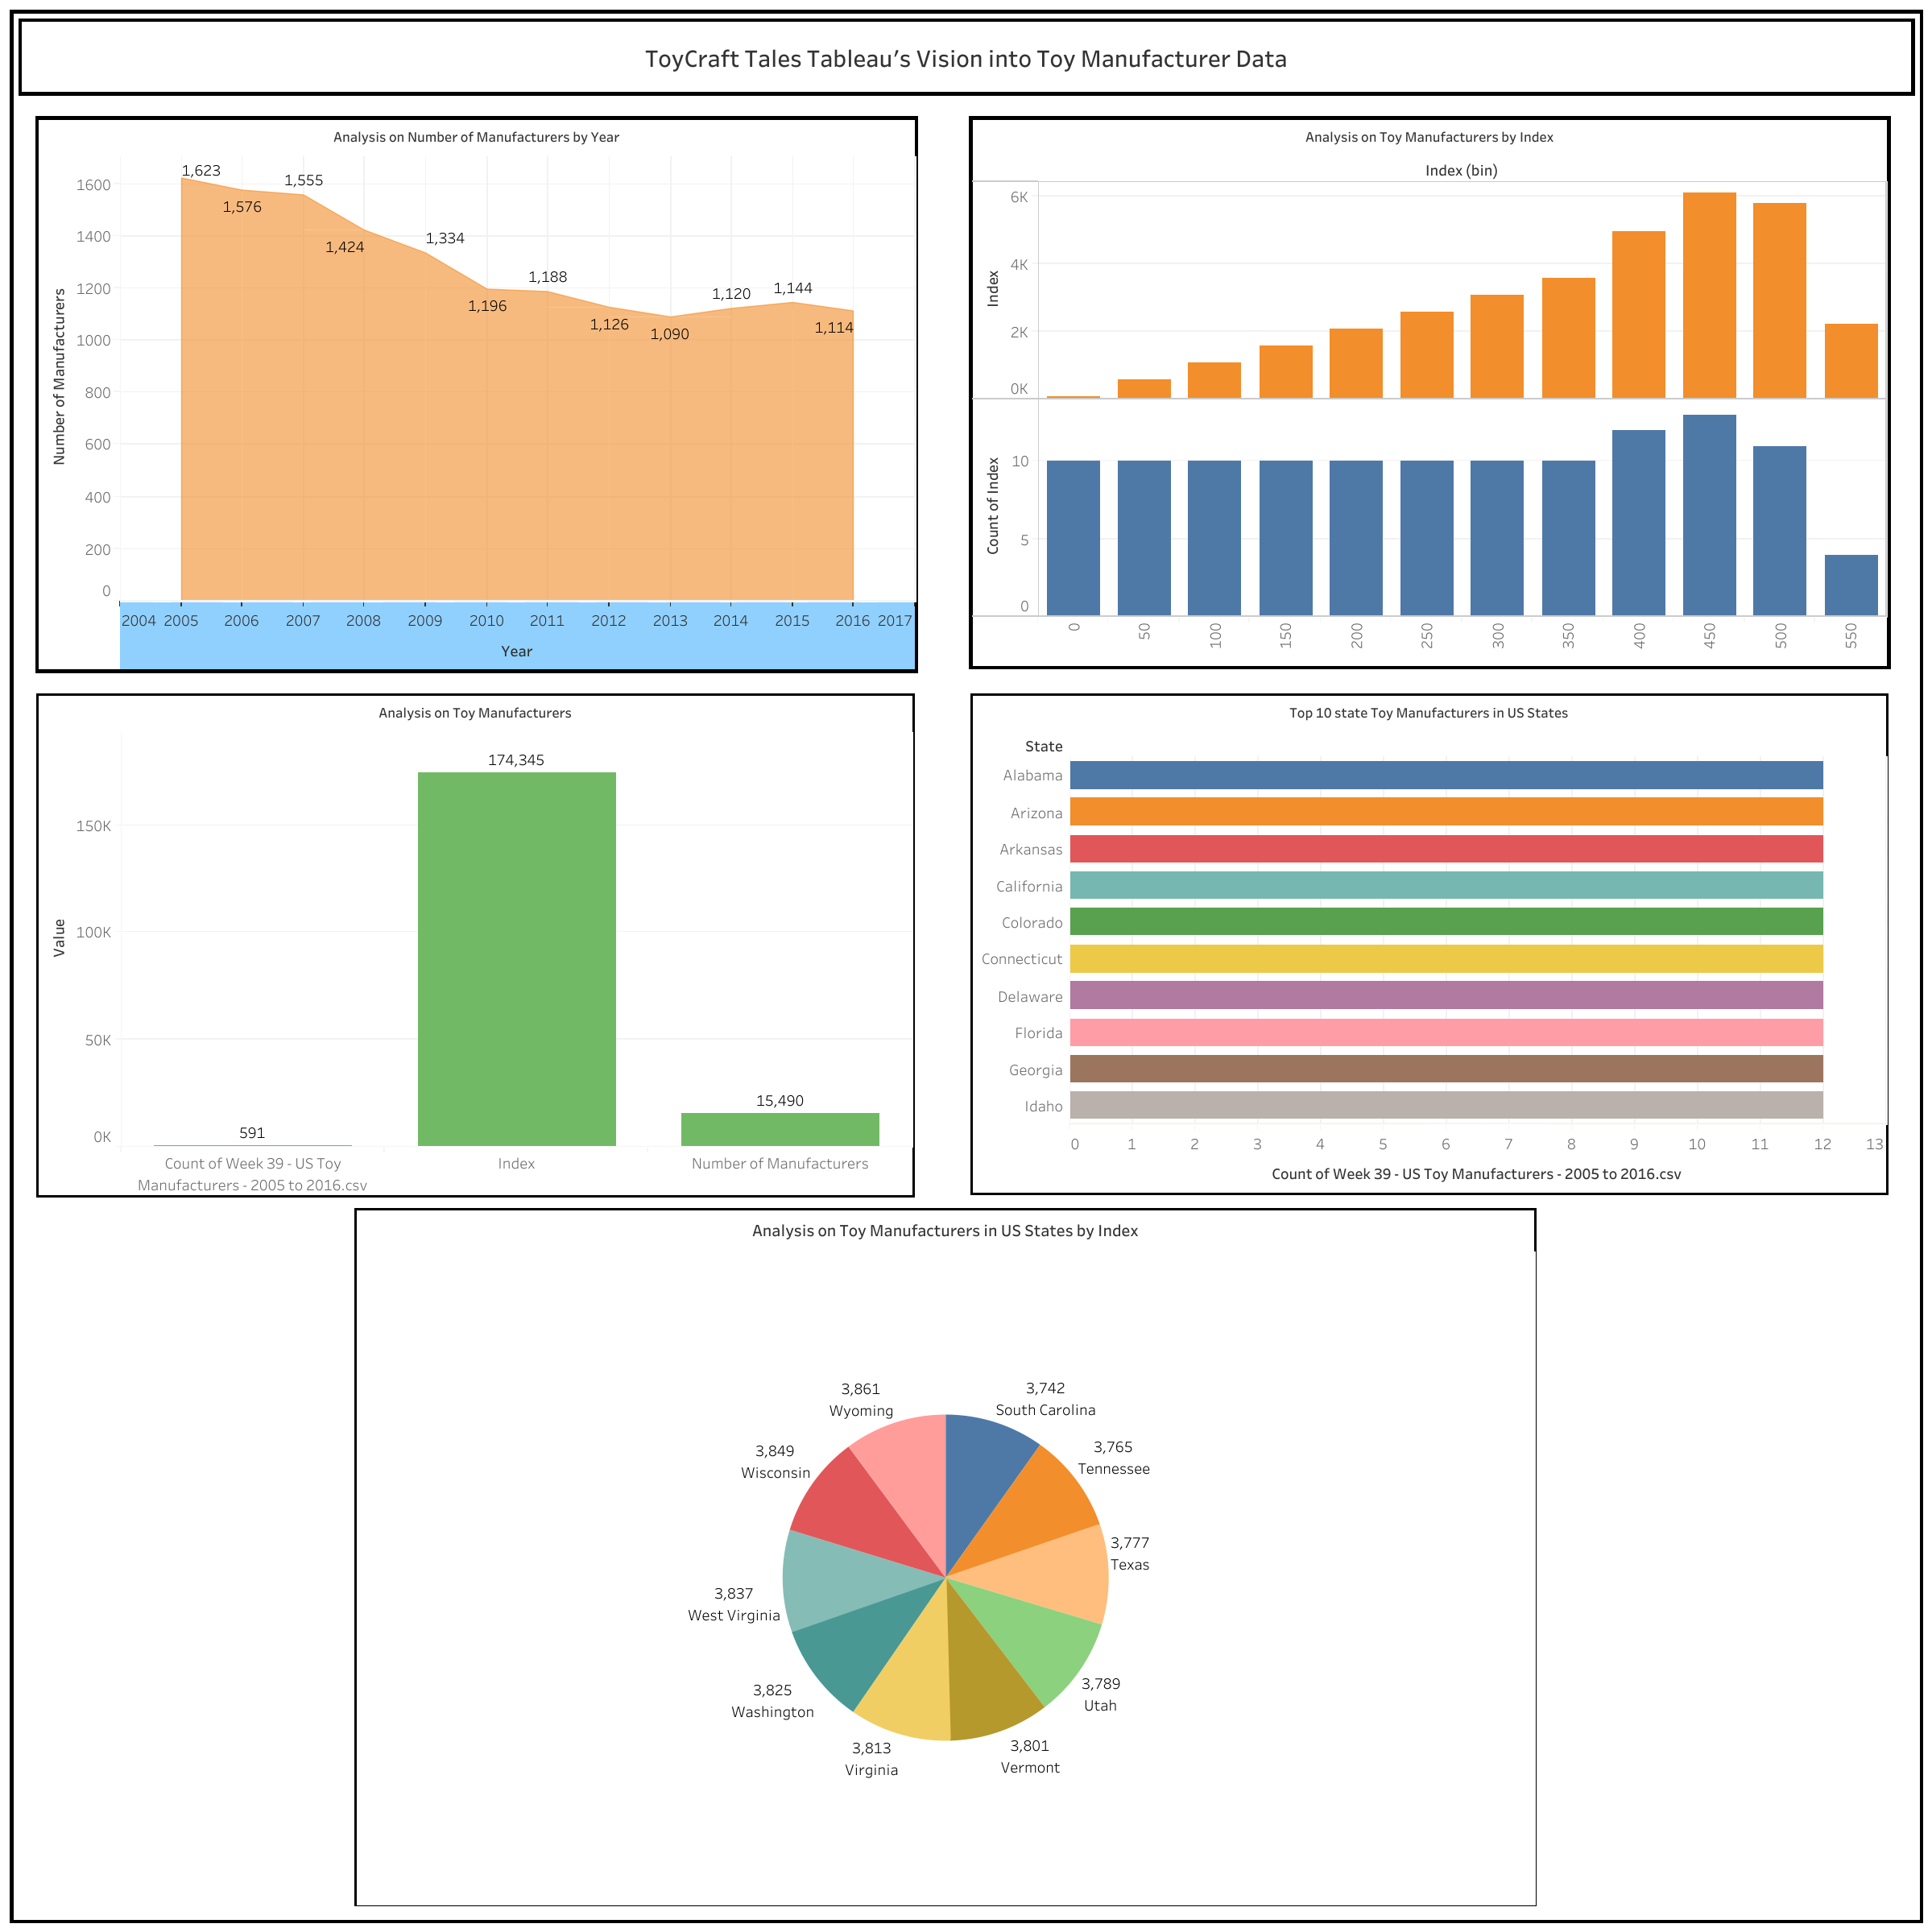

Layout of this report page (visuals, bound fields, positions):
{"tool":"tableau","page":{"name":"Dashboard 1","canvas":[1600,1600],"ordinal":0},"visuals":[{"type":"title","box":[11,11,1578,72]},{"type":"worksheet","title":"Sheet 1","mark":"Area","rows":["Number of Manufacturers"],"cols":["Year"],"box":[28.8,96,731.2,461.2]},{"type":"worksheet","title":"Sheet 2","mark":"Automatic","rows":["index","index"],"cols":["Index (bin)"],"box":[801.6,96,763.2,458.4]},{"type":"worksheet","title":"Sheet 3","mark":"Automatic","box":[30.4,574.1,726.4,416.9]},{"type":"worksheet","title":"Sheet 4","mark":"Automatic","rows":["State"],"box":[803.2,574.1,760,415.1]},{"type":"worksheet","title":"Sheet 5","mark":"Pie","box":[293,1000,979,578]}]}

Visuals, with their boxes in screenshot pixels (x1, y1, x2, y2), scaled from the page's 1600x1600 canvas onto the 1932x1932 screenshot:
title: 13, 13, 1919, 100
"Sheet 1" worksheet (Area marks): 35, 116, 918, 672
"Sheet 2" worksheet: 968, 116, 1889, 669
"Sheet 3" worksheet: 37, 693, 914, 1197
"Sheet 4" worksheet: 970, 693, 1888, 1194
"Sheet 5" worksheet (Pie marks): 354, 1207, 1536, 1905
